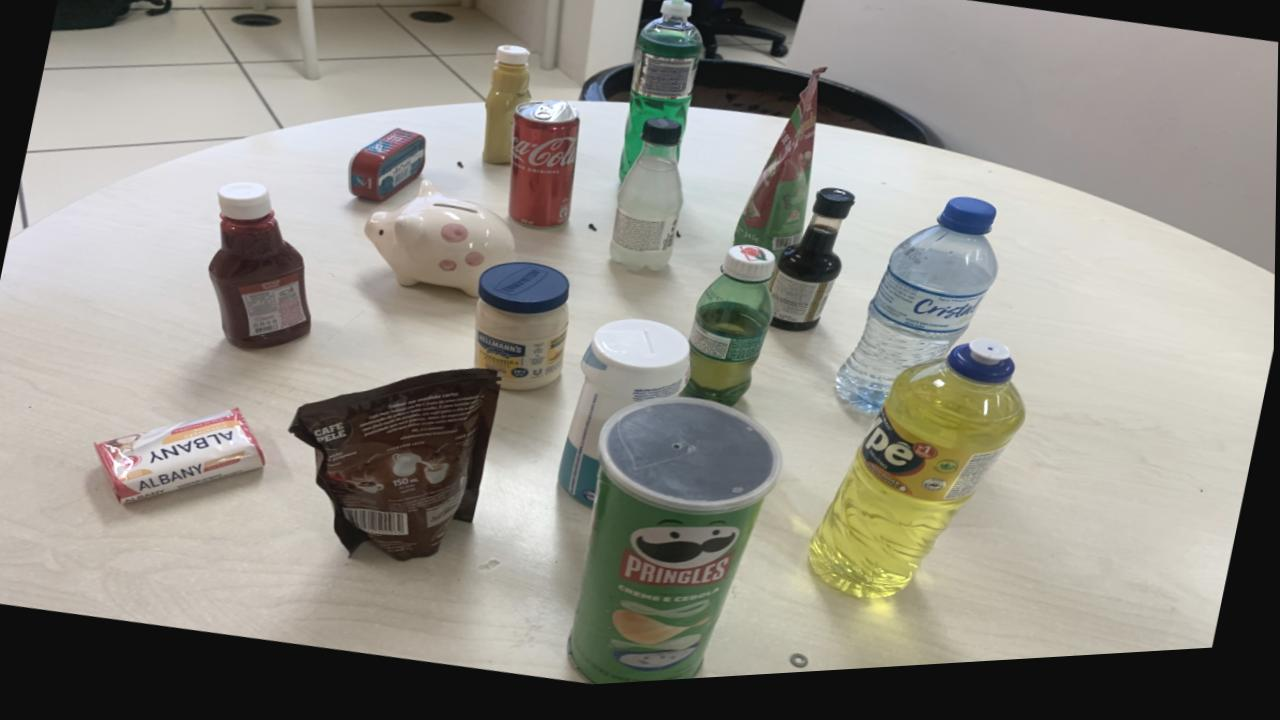Cleaner-Cleanup_Items: (559, 326, 691, 513)
Coffee-Pantry_Items: (289, 374, 501, 566)
Coke-Drinks: (508, 106, 580, 234)
Detergent-Cleanup_Items: (810, 351, 1027, 609), (618, 0, 703, 188)
English_Sauce-Pantry_Items: (769, 198, 855, 341)
Guarana-Drinks: (684, 254, 777, 415)
Ketchup-Pantry_Items: (208, 184, 311, 351)
Mayonnaise-Pantry_Items: (475, 268, 570, 397)
Mustard-Pantry_Items: (482, 51, 531, 170)
Pig_Safe-Miscellaneous: (363, 186, 515, 302)
Pringles-Snacks: (569, 406, 782, 691)
Soap-Cleanup_Items: (95, 411, 266, 505)
Soda-Drinks: (610, 125, 684, 279)
Tomato_Sauce-Pantry_Items: (734, 77, 826, 265)
Tuna_Can-Pantry_Items: (348, 134, 426, 205)
Water_Bottle-Drinks: (837, 208, 999, 421)
